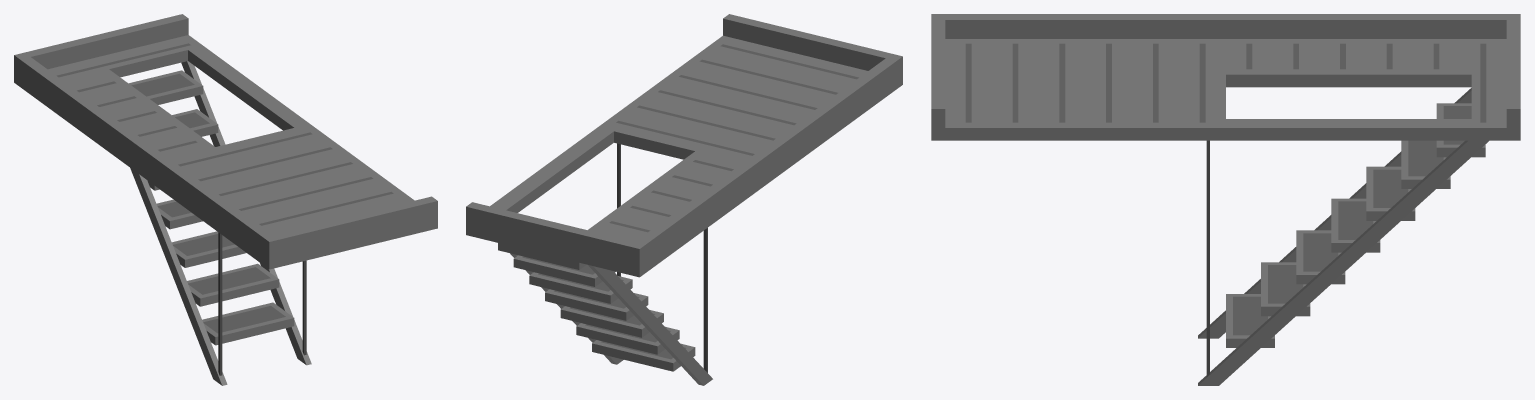
File: Stairs.fbx
3 renders of one model, left to right at view 1: azimuth 30°, elevation 25°; view 2: azimuth 150°, elevation 25°; view 3: azimuth 270°, elevation 25°, orthographic. The views are drawn at different scales.
Parts seen in each view (by area): view 1: Emergency_Stairs_1A; view 2: Emergency_Stairs_1A; view 3: Emergency_Stairs_1A.
Boxes of the visible parts, <box> form: Emergency_Stairs_1A: <box>14,14,437,385</box>; Emergency_Stairs_1A: <box>466,14,902,385</box>; Emergency_Stairs_1A: <box>931,14,1520,385</box>.
Size of the model in its own units: 3887 by 5406 by 10204.
